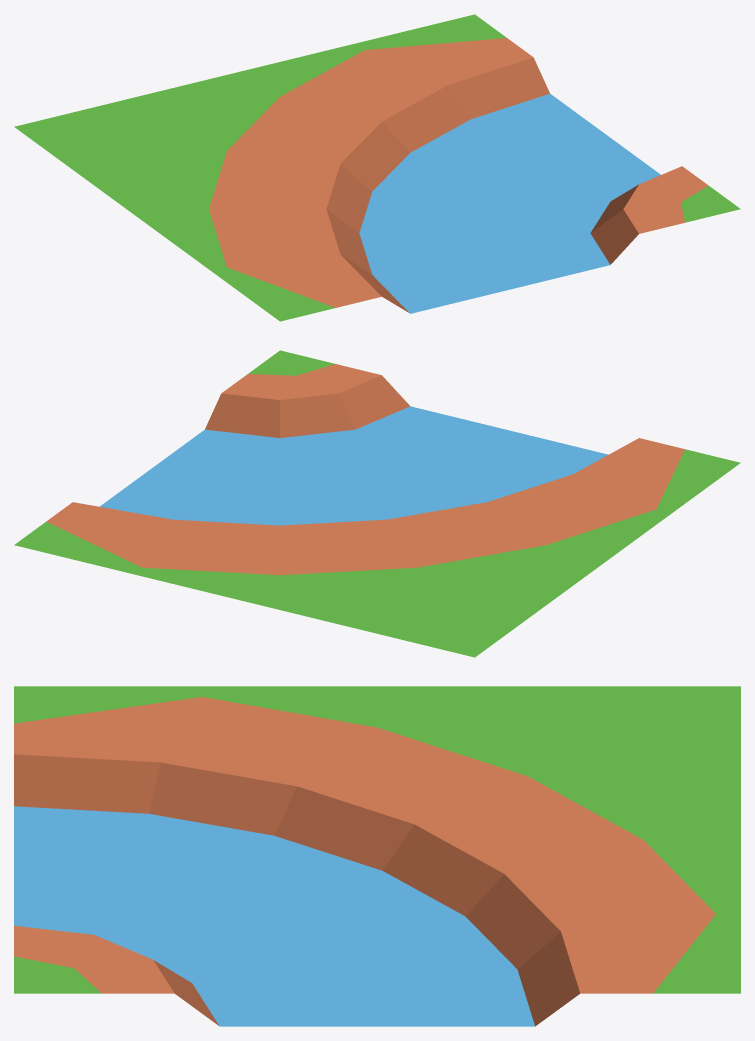
The model's file is ground_riverBendBank.glb.
3 views of the same model, one above another, from view 1: azimuth 30°, elevation 25°; view 2: azimuth 150°, elevation 25°; view 3: azimuth 270°, elevation 25° (orthographic). The views are drawn at different scales.
Visible parts, largest first — view 1: ground_riverBendBank; view 2: ground_riverBendBank; view 3: ground_riverBendBank.
Boxes of the visible parts, bbox=[...] form: ground_riverBendBank: bbox=[14, 14, 740, 321]; ground_riverBendBank: bbox=[14, 350, 740, 657]; ground_riverBendBank: bbox=[14, 686, 740, 1026].
Size of the model in its own units: 1 by 0.05 by 1.
